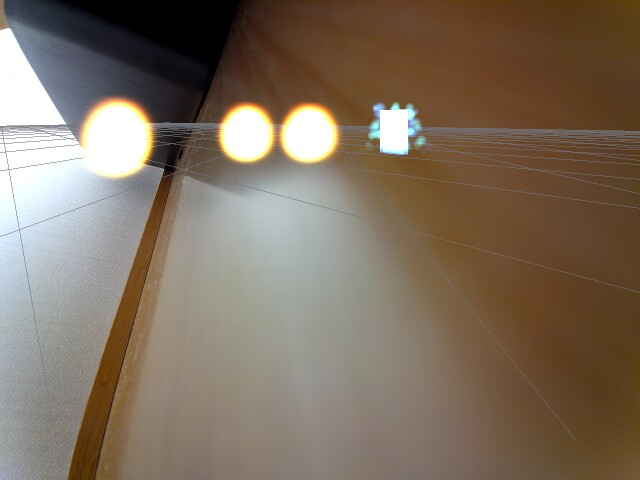firebig: (59, 91, 164, 180)
